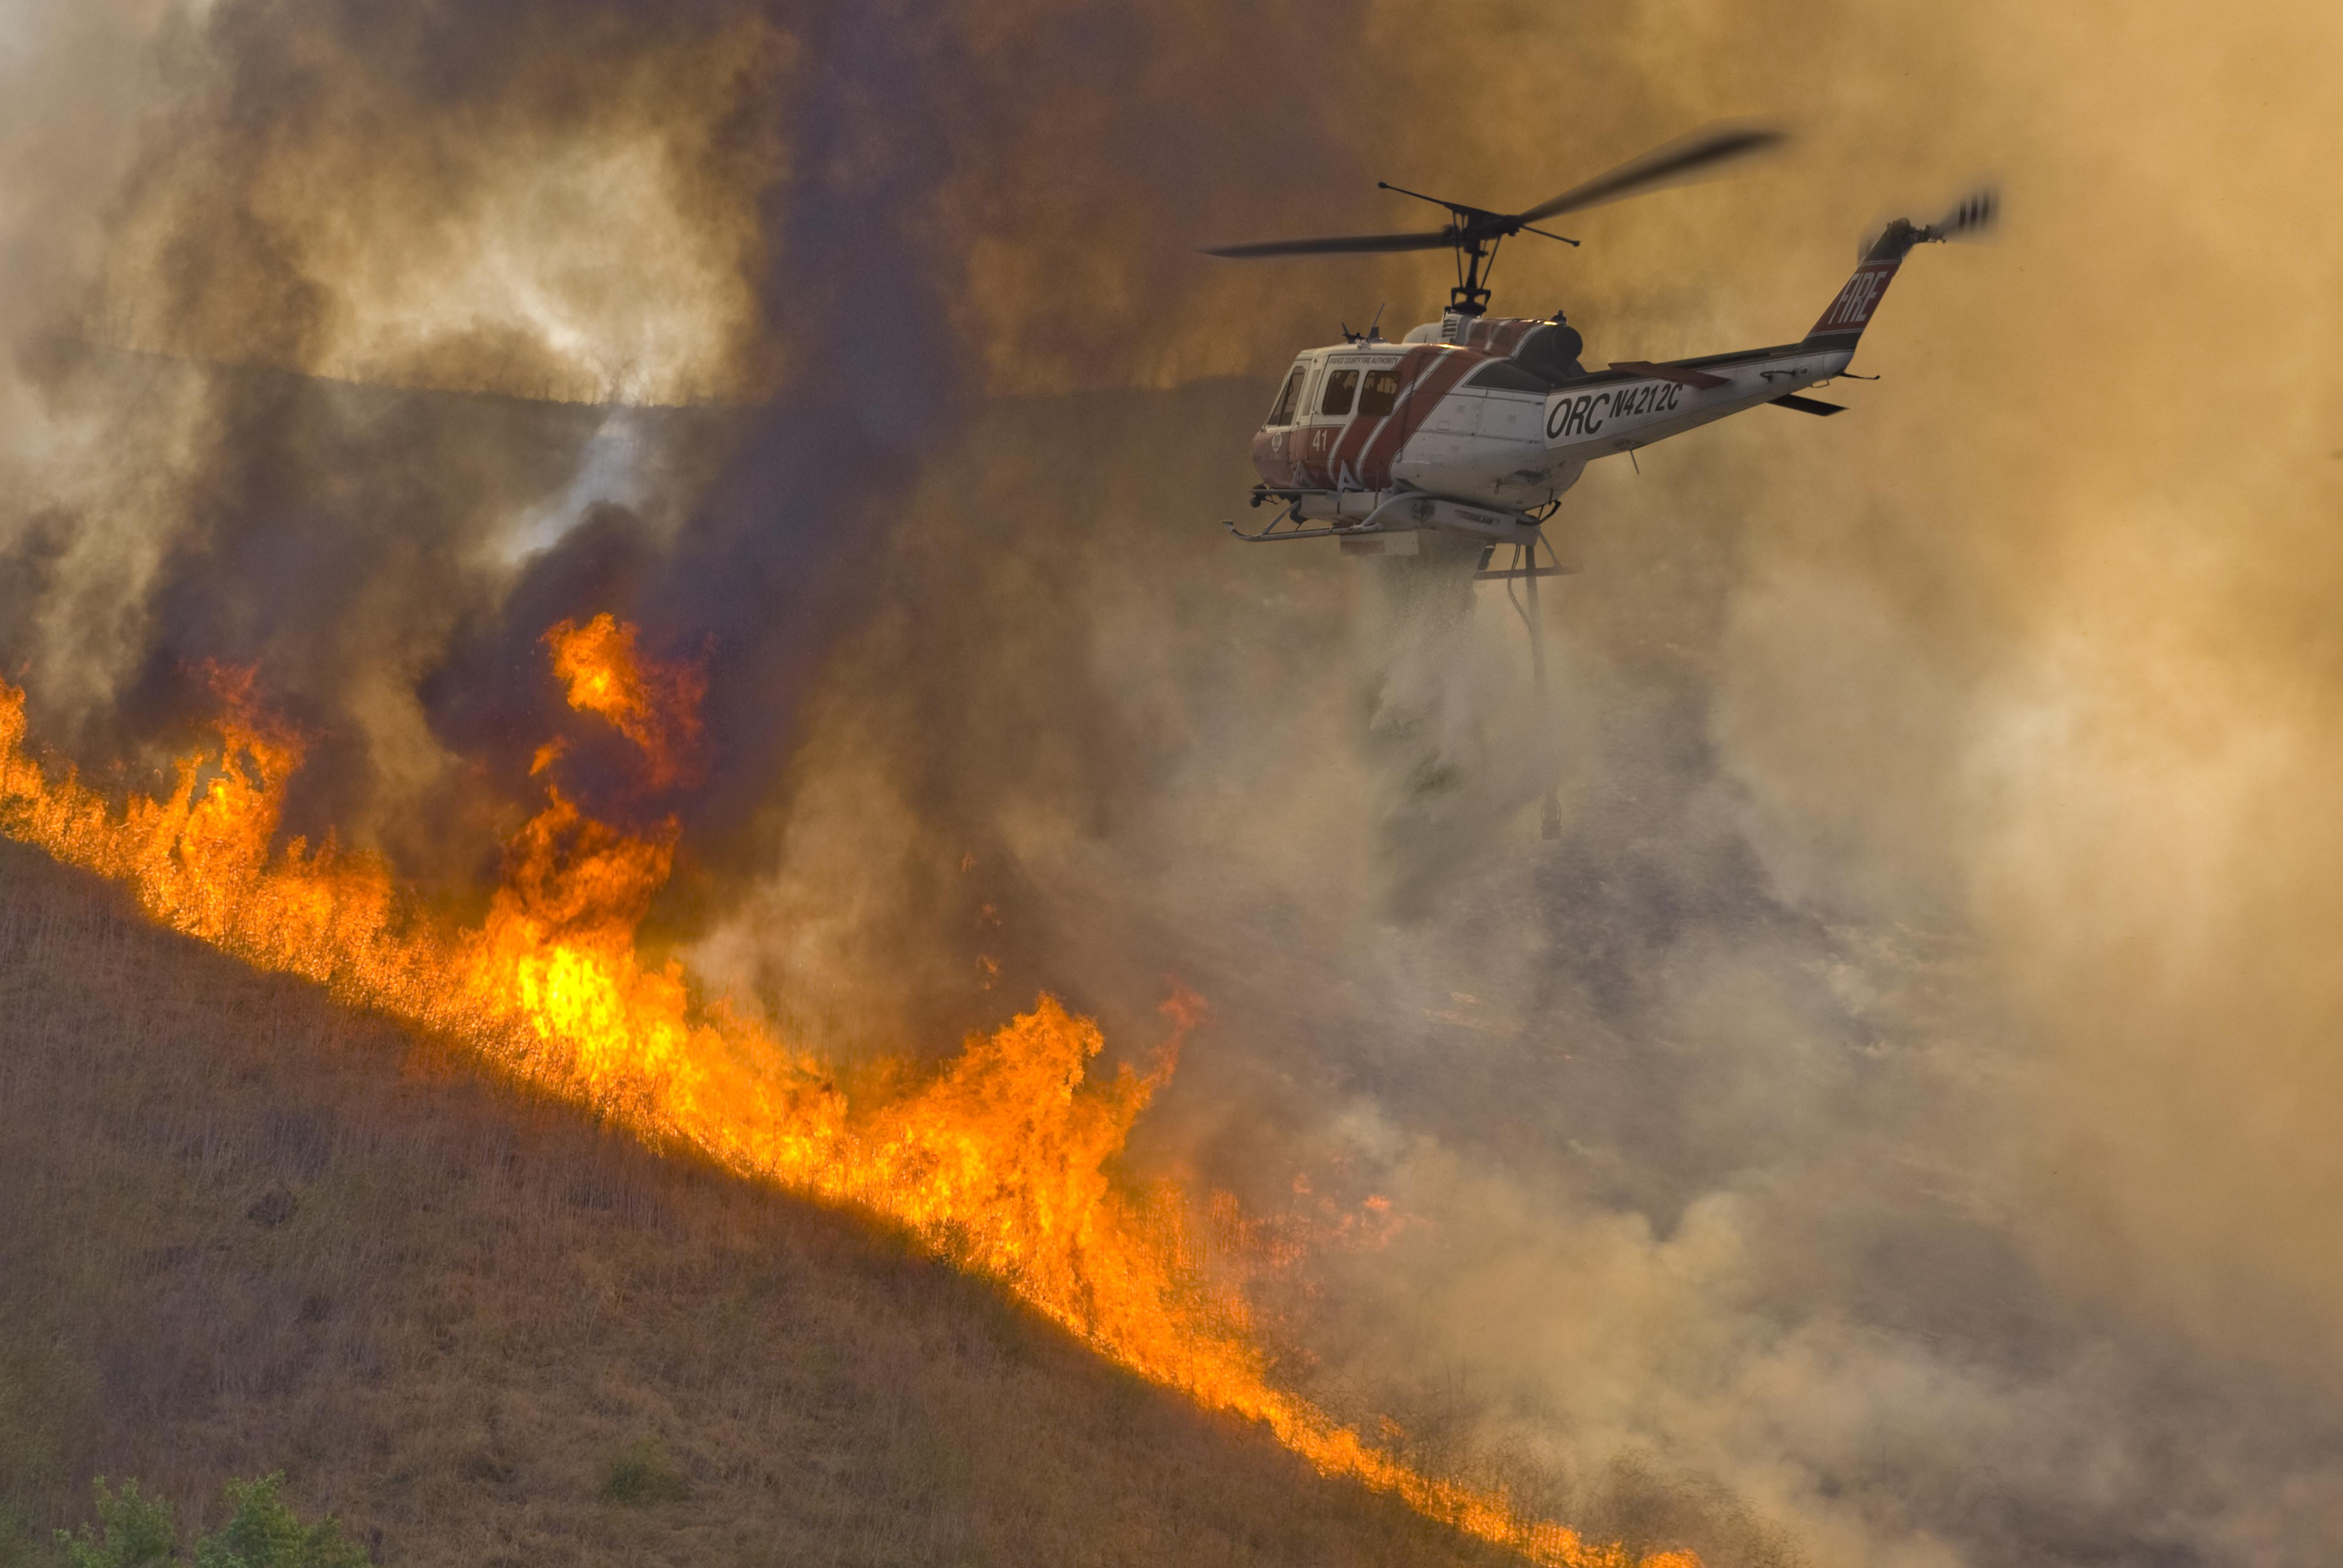Fire: (0, 474, 1552, 1568)
